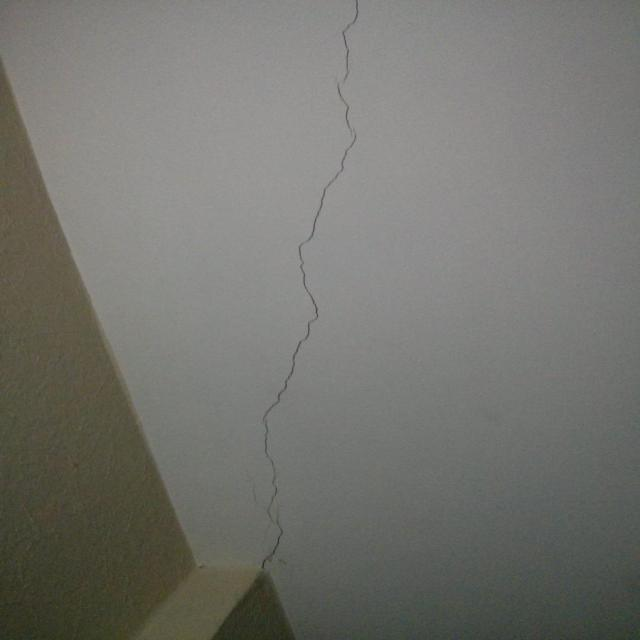crack: (258, 1, 366, 570)
